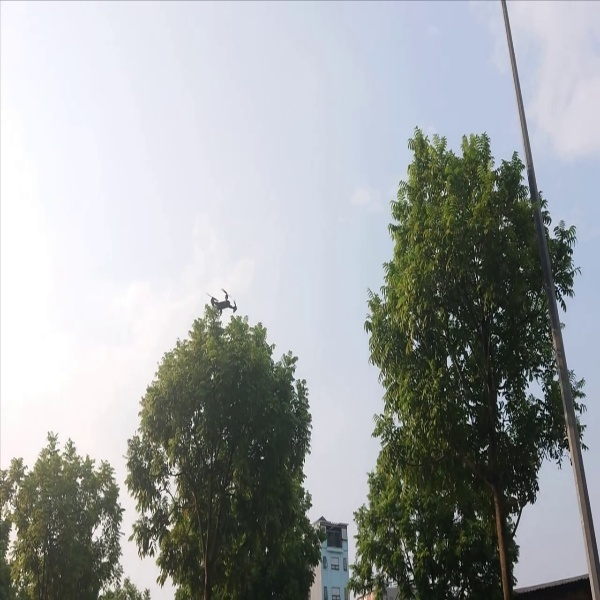drone: (208, 284, 237, 324)
